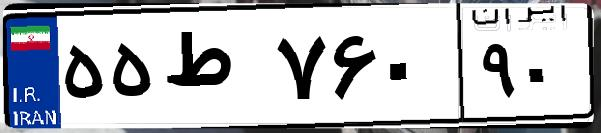0: (385, 28, 445, 110), (525, 38, 570, 115)
5: (57, 26, 110, 100), (110, 28, 158, 98)
6: (330, 28, 385, 110)
7: (270, 28, 330, 110)
9: (475, 38, 525, 113)
ط: (158, 20, 270, 120)
